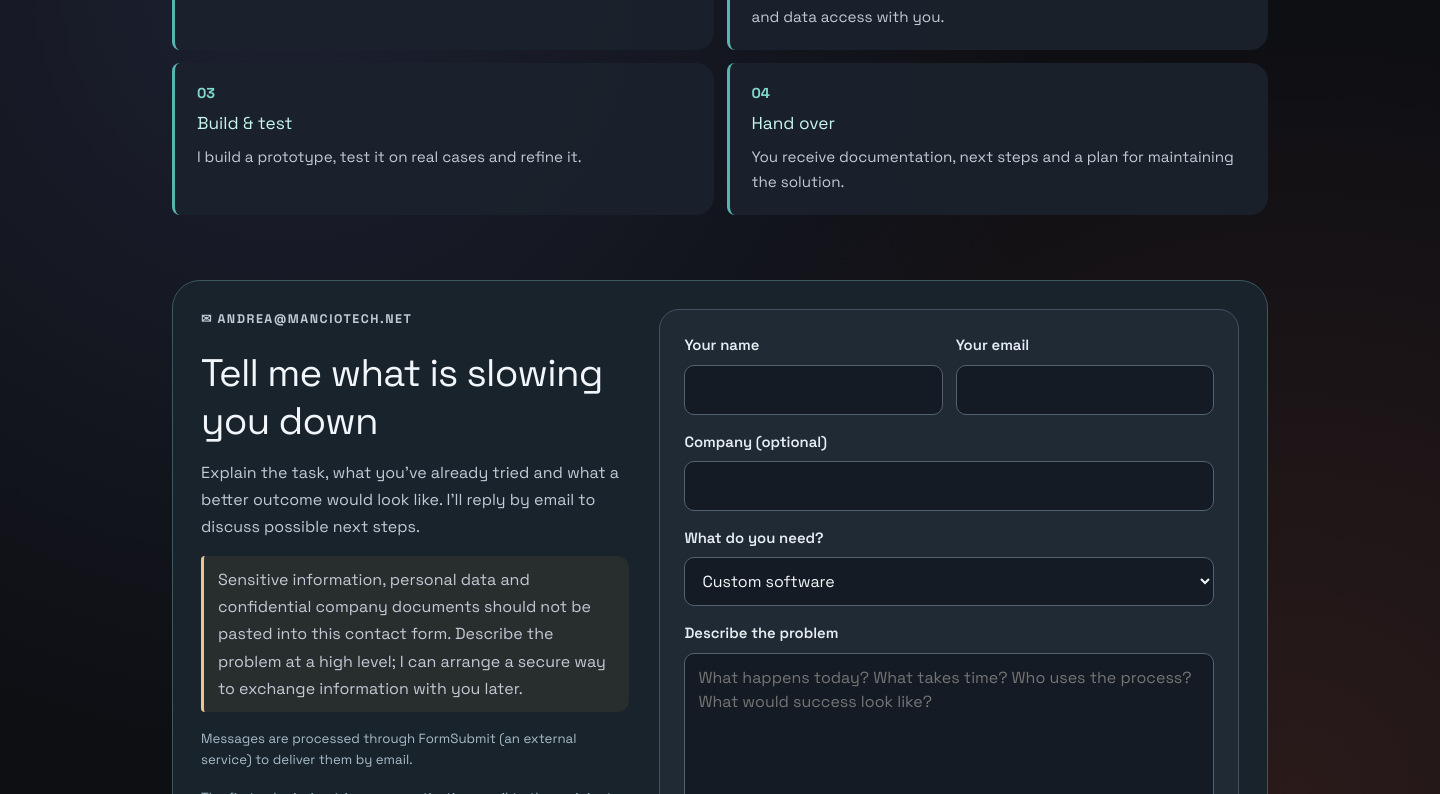
it: contact form requires consent and submits the description to the email service
The width and height of the screenshot is (1440, 794).
Later steps or results of the test are not shown.
(page scrolled)
Type "Test Person" into the field labelled "Your name". click: (814, 390)
box: [684, 365, 943, 415]
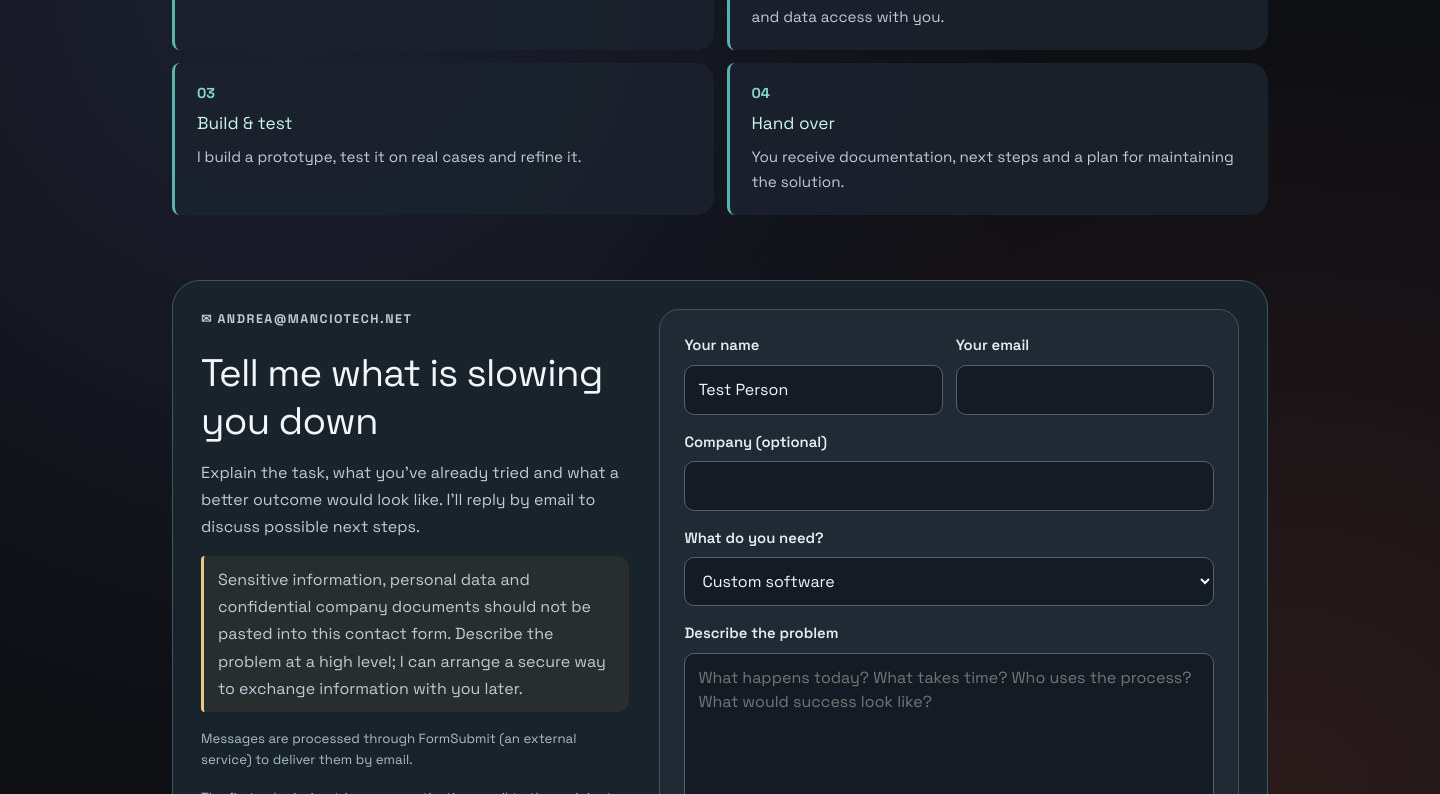
Type "contact@example.org" into the field labelled "Your email". click: (1085, 390)
box: [956, 365, 1214, 415]
(page scrolled)
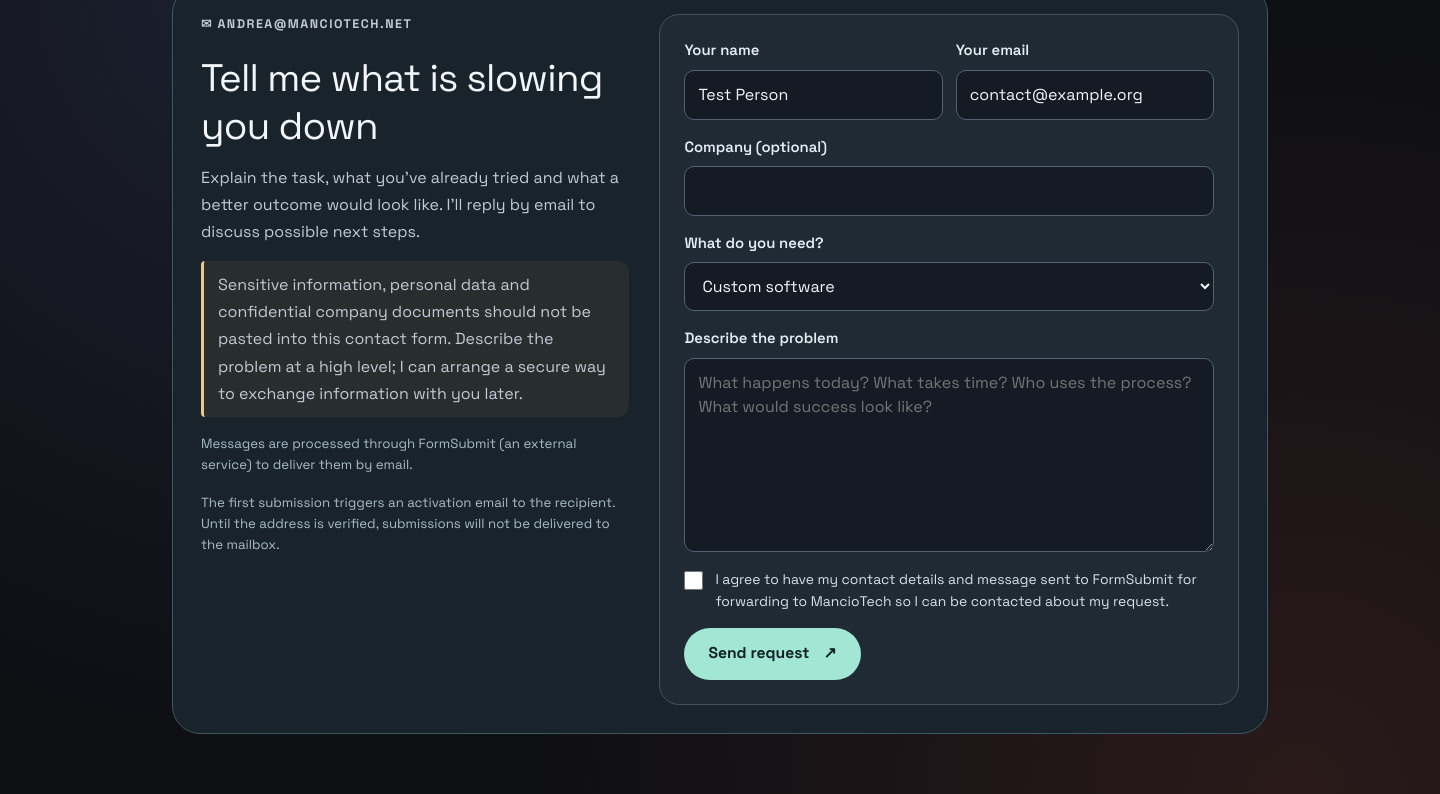
Replace the text in the text box labelled "Describe the problem" with "I need help improving repetitive reporting workflows.". click: (949, 455)
box: [684, 358, 1214, 552]
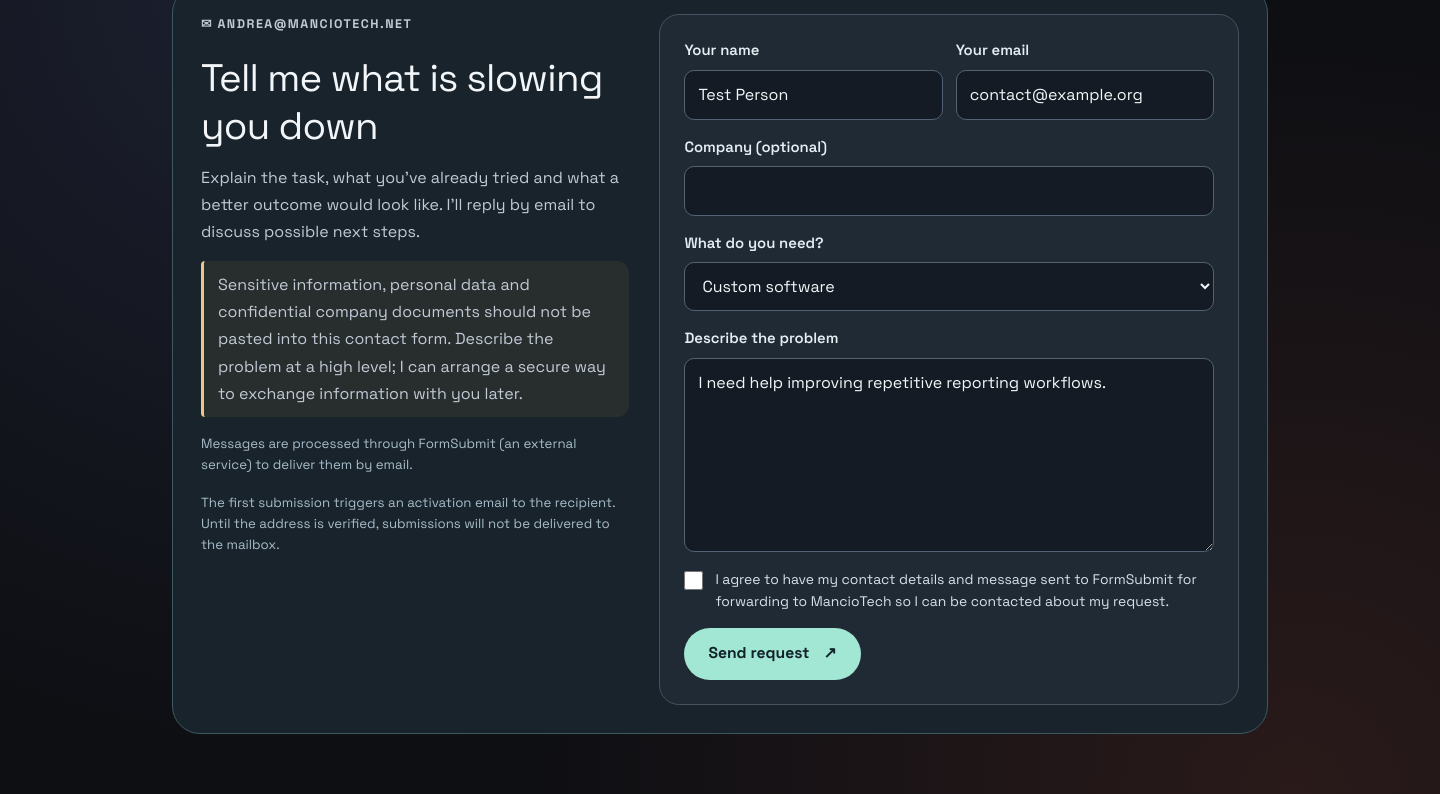
Click the button "Send request ↗". click: (772, 654)
box: [684, 628, 861, 680]
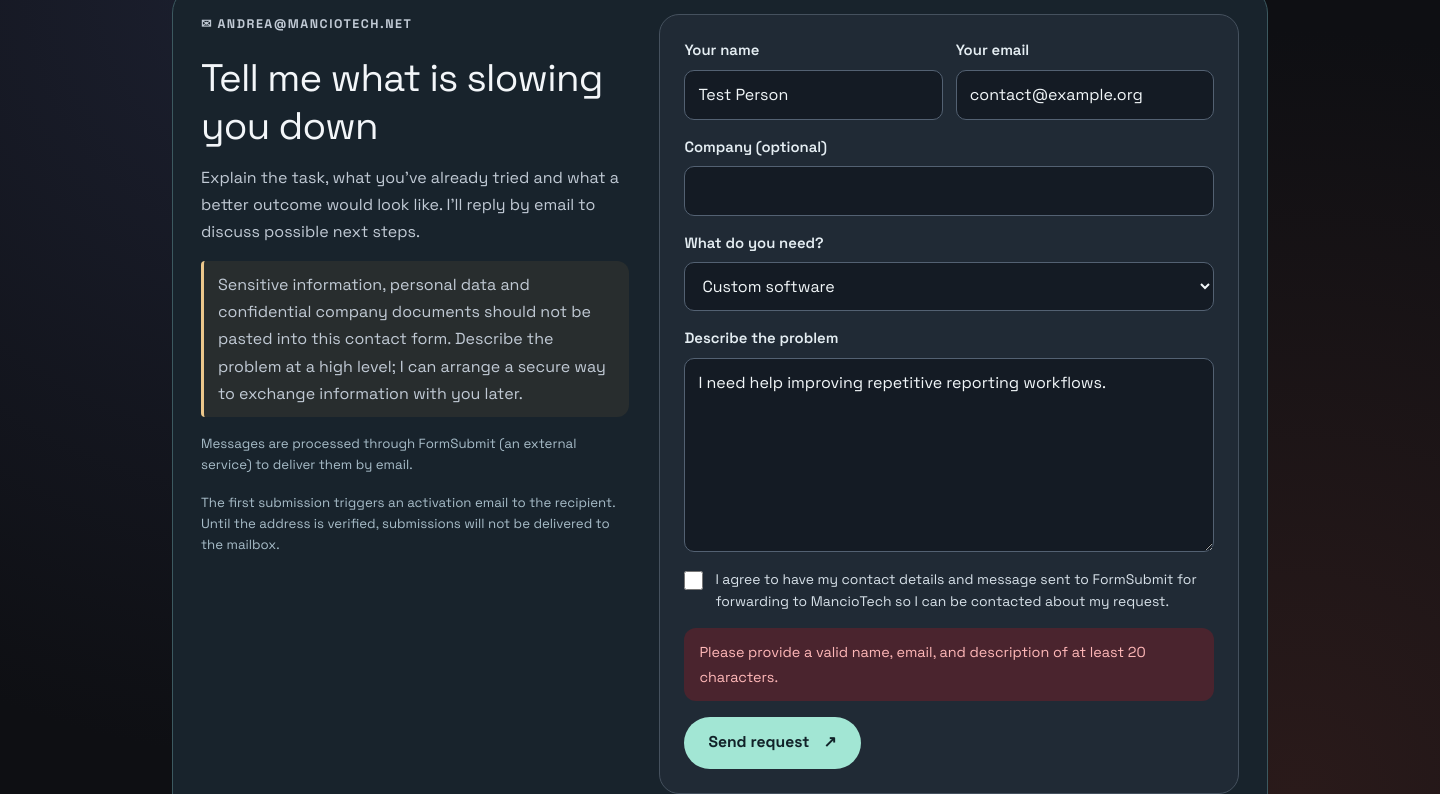
Result: the message shows "Please provide" at [699, 643, 1146, 686]
Click the checkbox. click: (694, 580)
box: [684, 571, 703, 590]
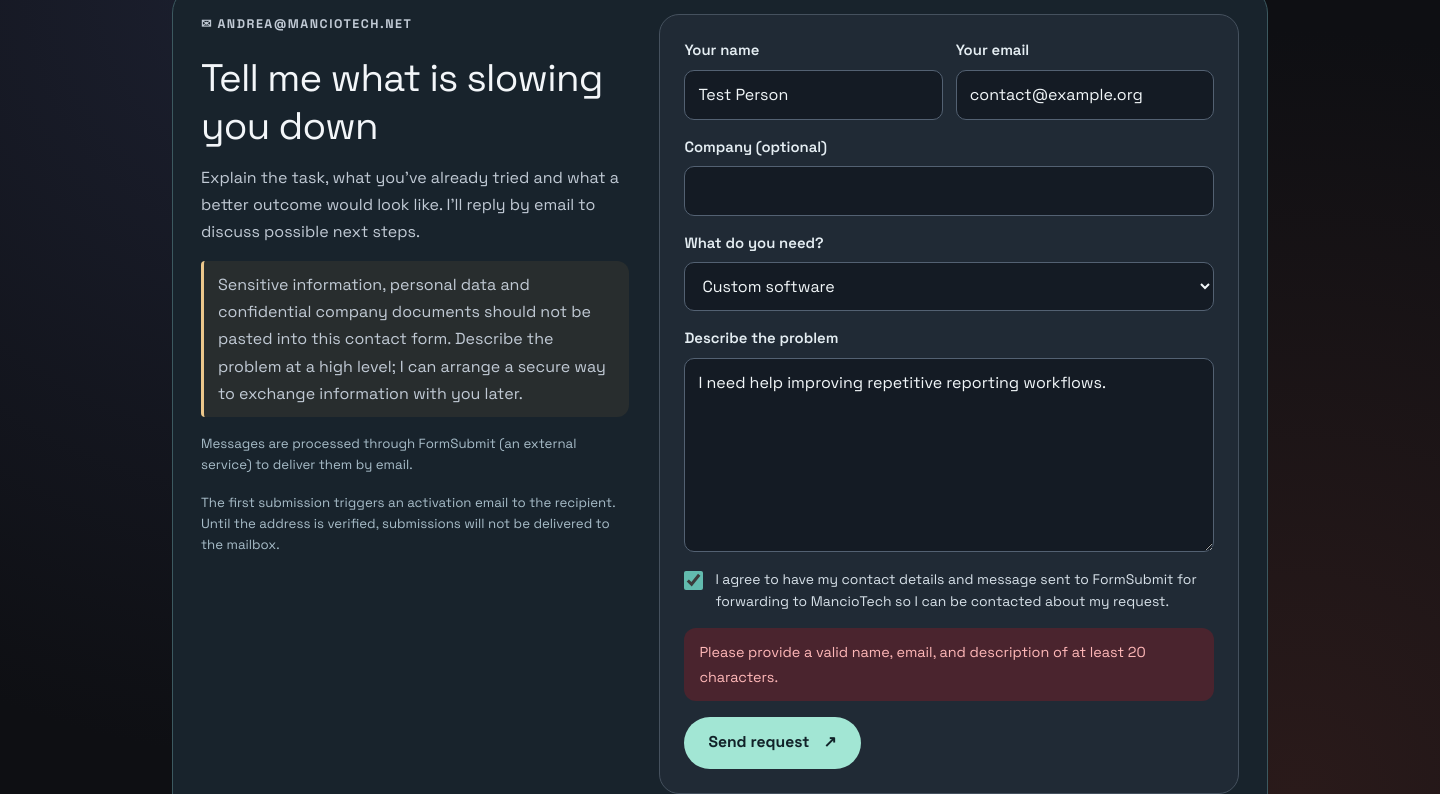
Click the button "Send request ↗". click: (772, 743)
box: [684, 717, 861, 769]
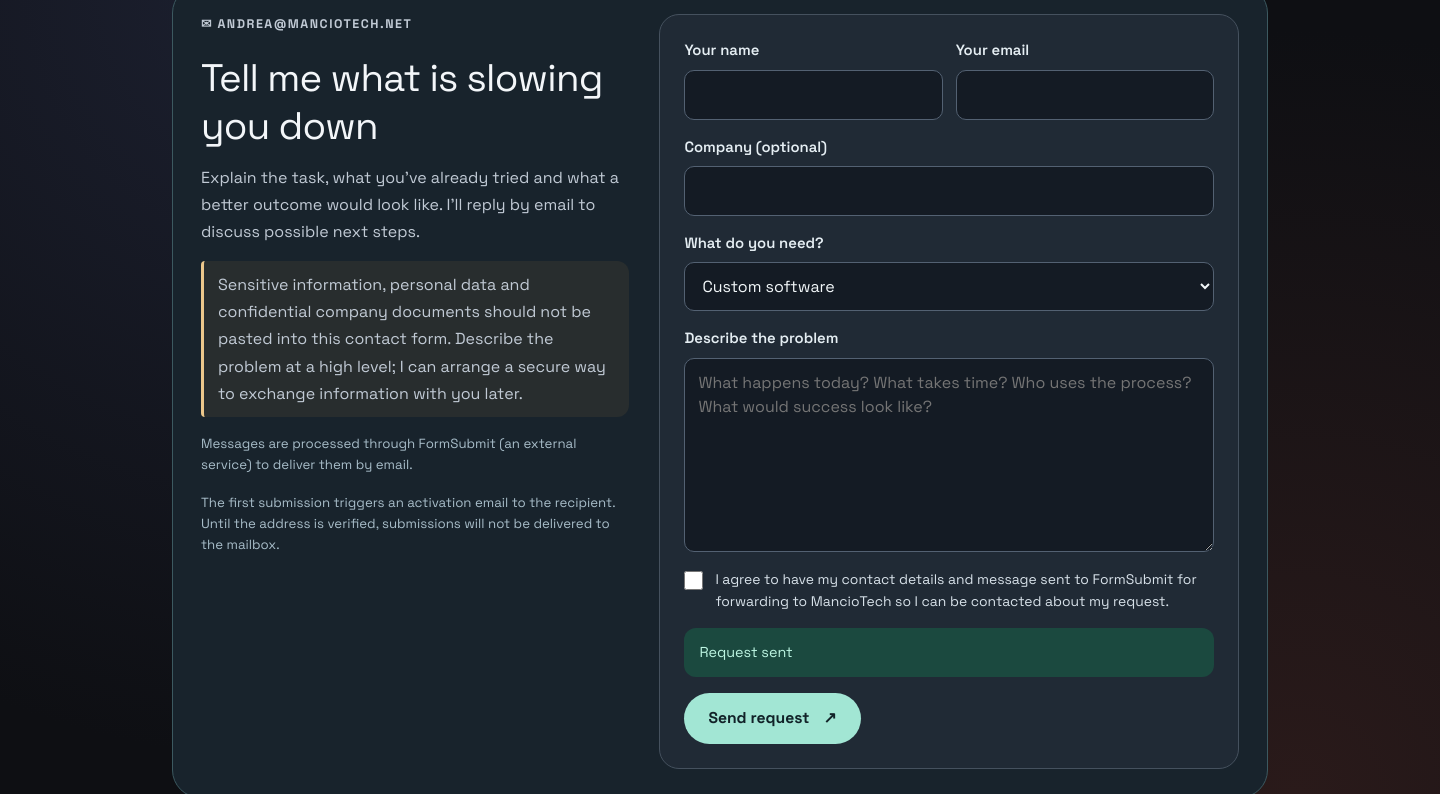
Result: the message reads "Request sent" at [699, 643, 793, 661]
